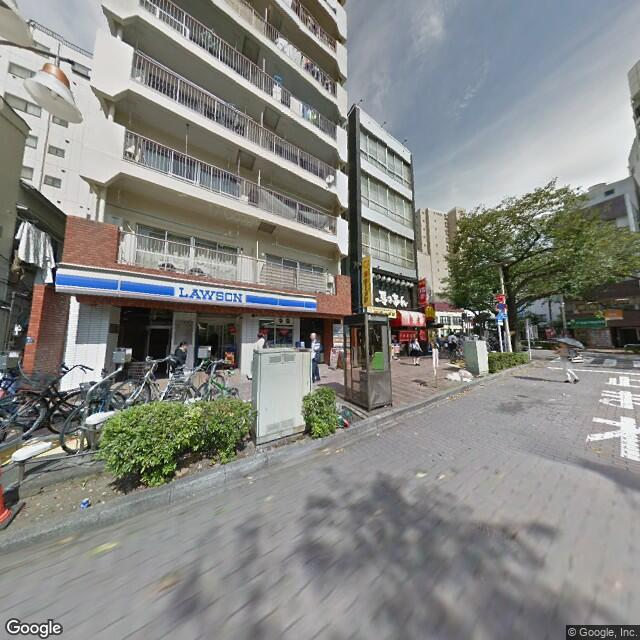lawson: (54, 266, 320, 316)
